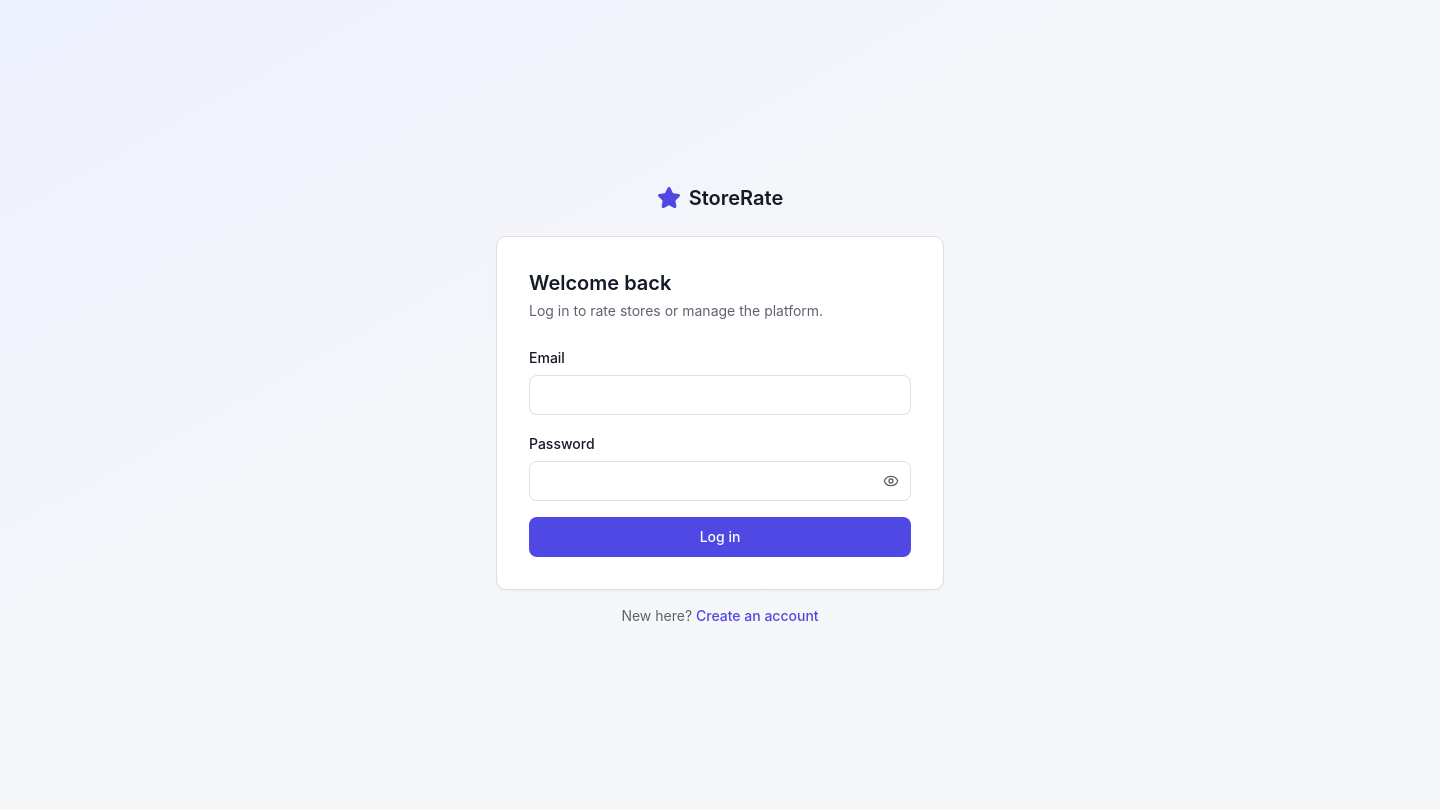
Test: authentication transitions › navigates to the role dashboard immediately after login
This screenshot has width=1440, height=810.
Check: the heading "Welcome back" is shown, box [529,271,671,295]
Type "user@test.dev" into the field labelled "Email" at (720, 395), box [529,375,911,415]
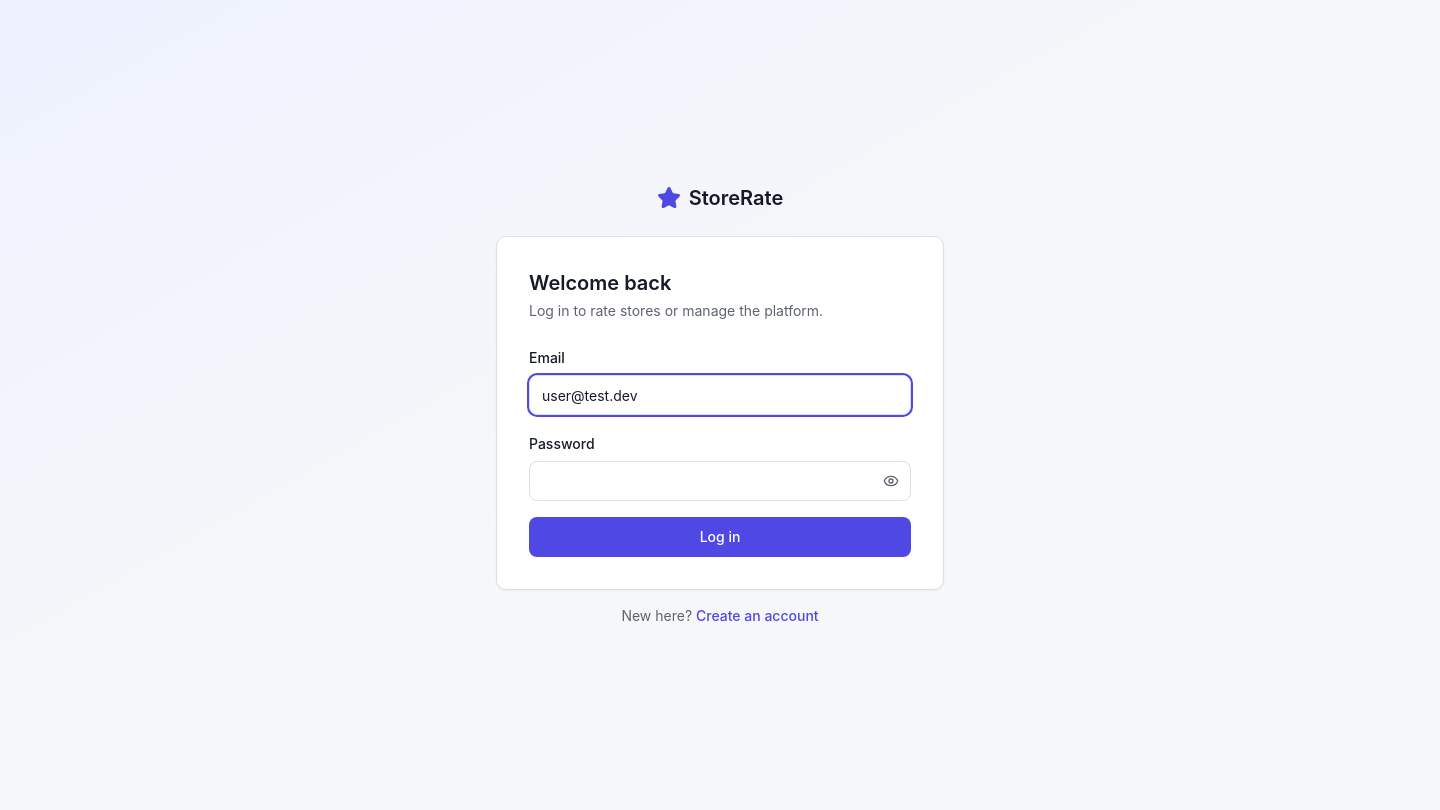
Type "Valid@123" into the password field labelled "Password" at (720, 481), box [529,461,911,501]
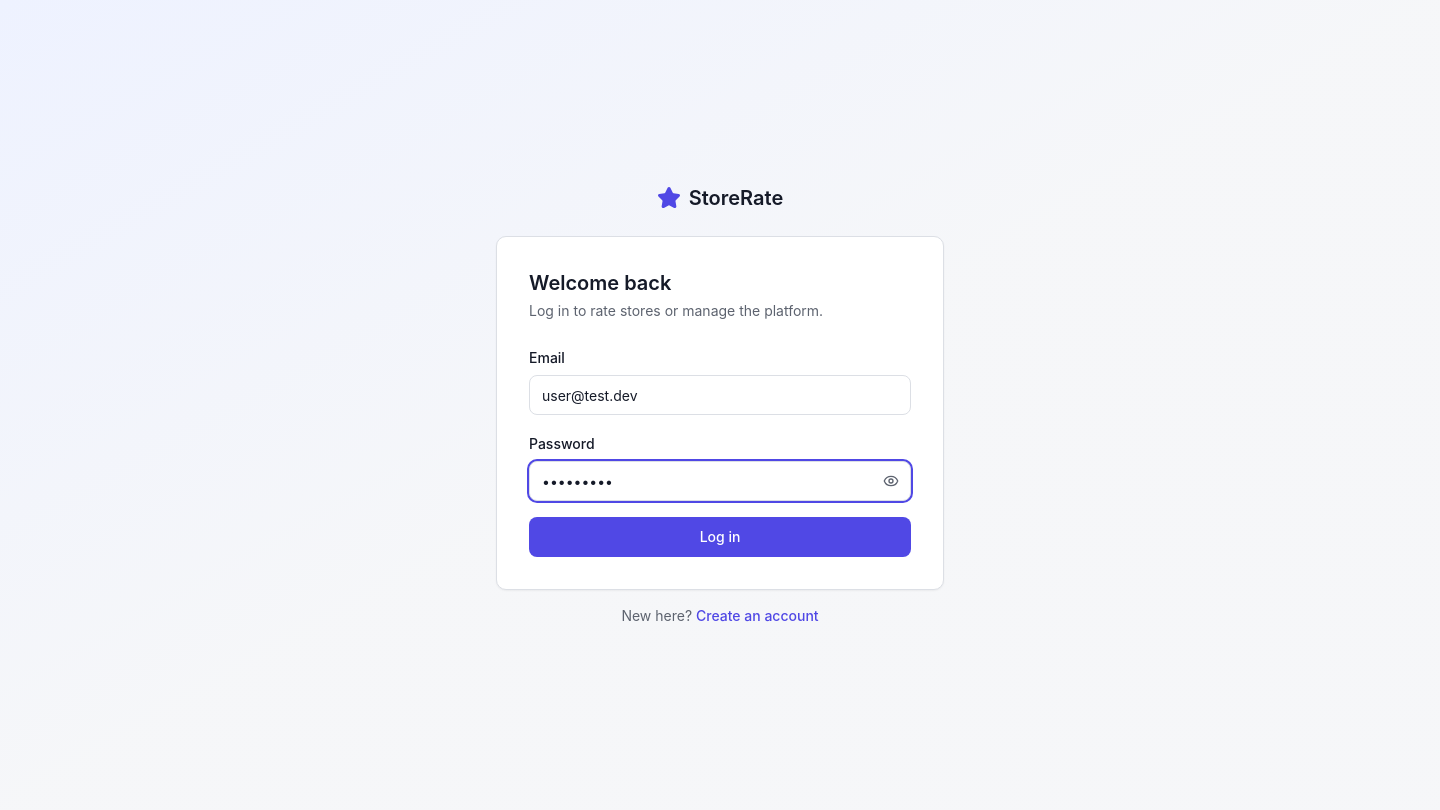
Click the button "Log in" at (720, 537), box [529,517,911,557]
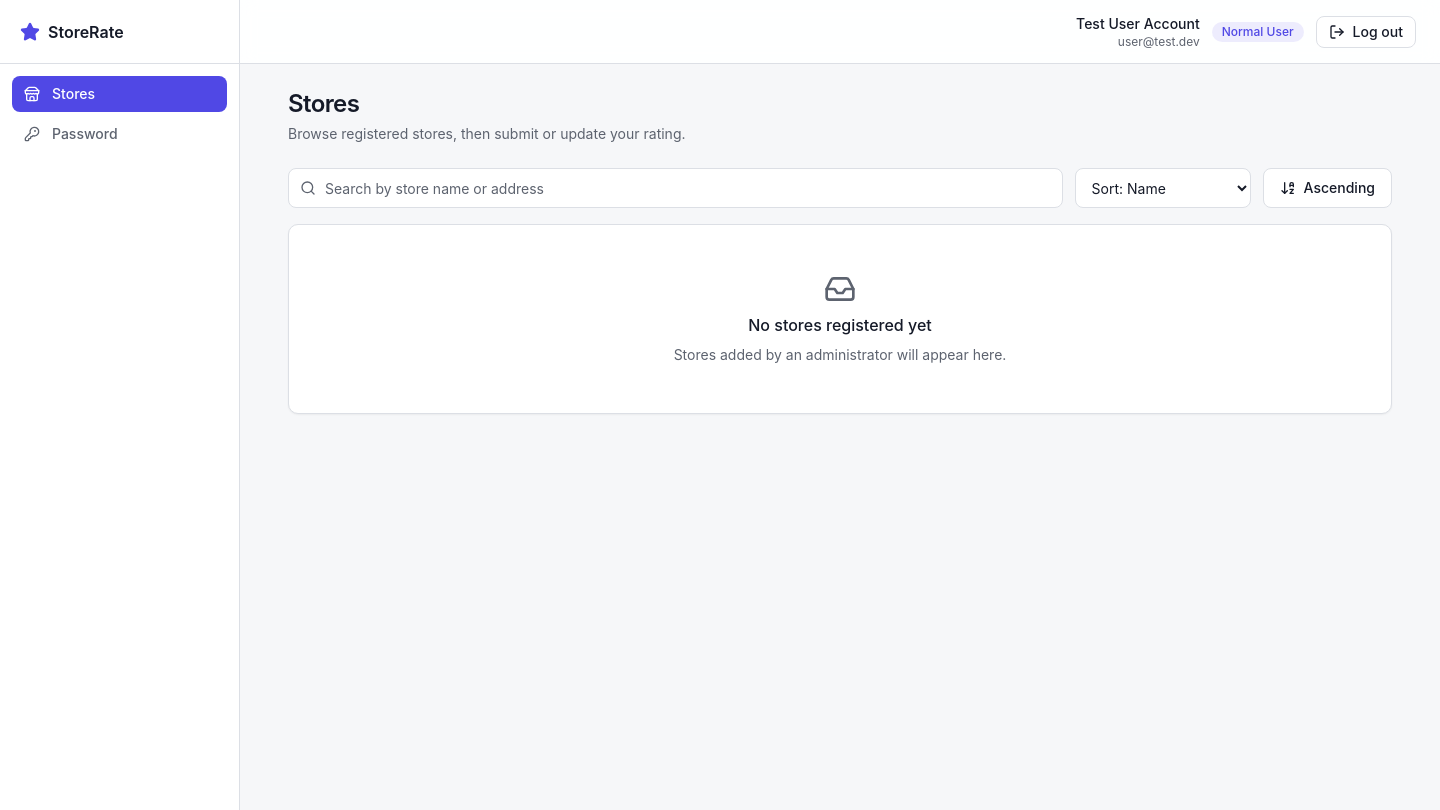
Check: the heading "Stores" is shown, box [288,89,359,118]
